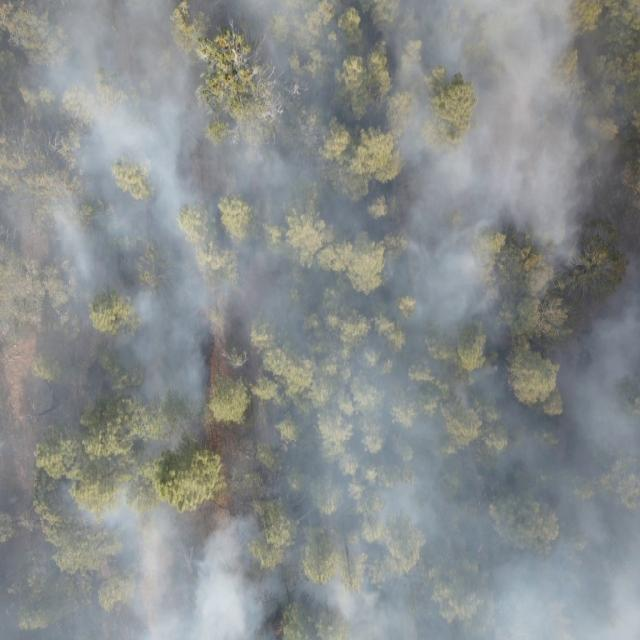fire: (270, 620, 286, 640)
